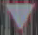Give way: (1, 0, 36, 31)
